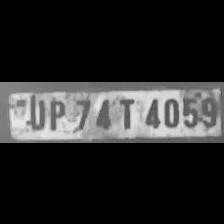0: (160, 94, 180, 128)
4: (90, 96, 114, 130), (139, 94, 161, 128)
5: (180, 92, 200, 128)
7: (69, 95, 91, 131)
9: (198, 94, 218, 128)
P: (45, 96, 67, 130)
T: (114, 94, 138, 130)
U: (22, 94, 46, 130)
